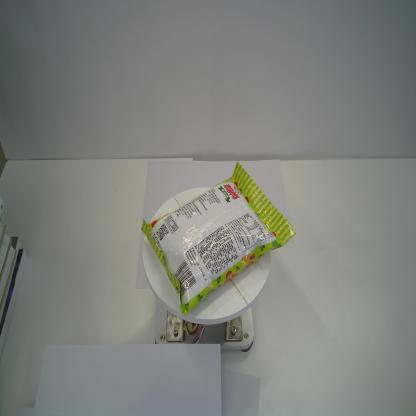Puffed Food: (141, 162, 295, 316)
